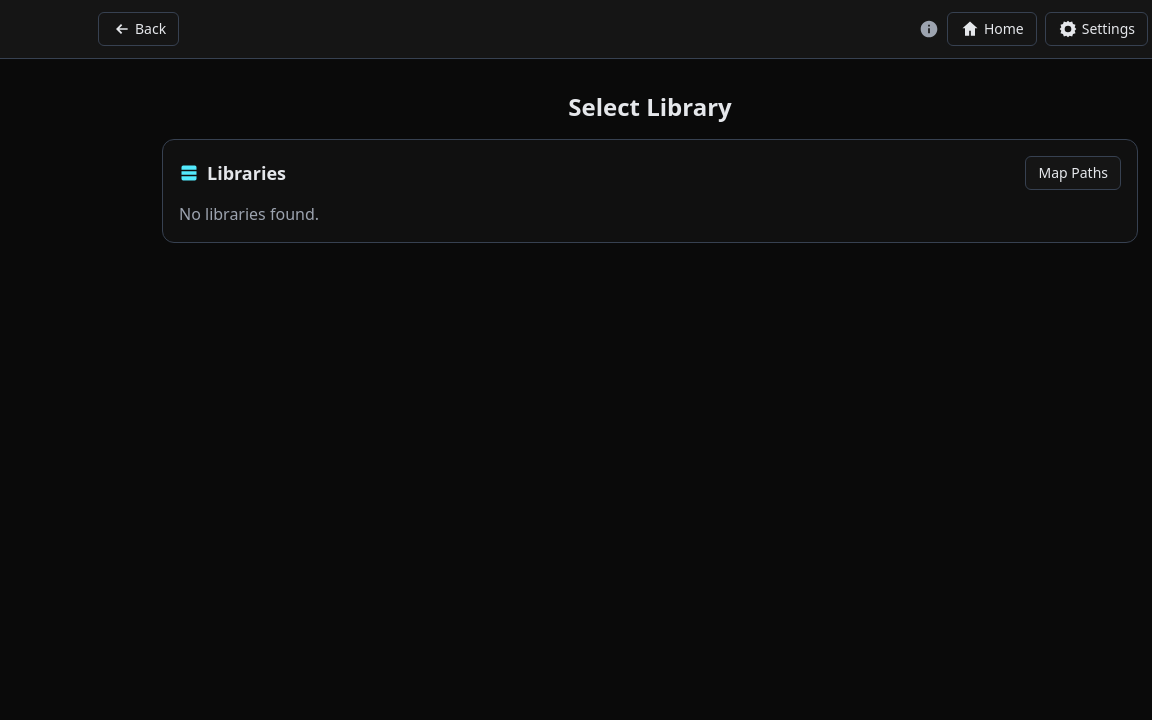
Scenario: LibrarySelectionContainer › opens path mapping modal when Map Paths is clicked
Step 1. Click the button "Map Paths" → (1073, 173), box [1026, 156, 1121, 190]
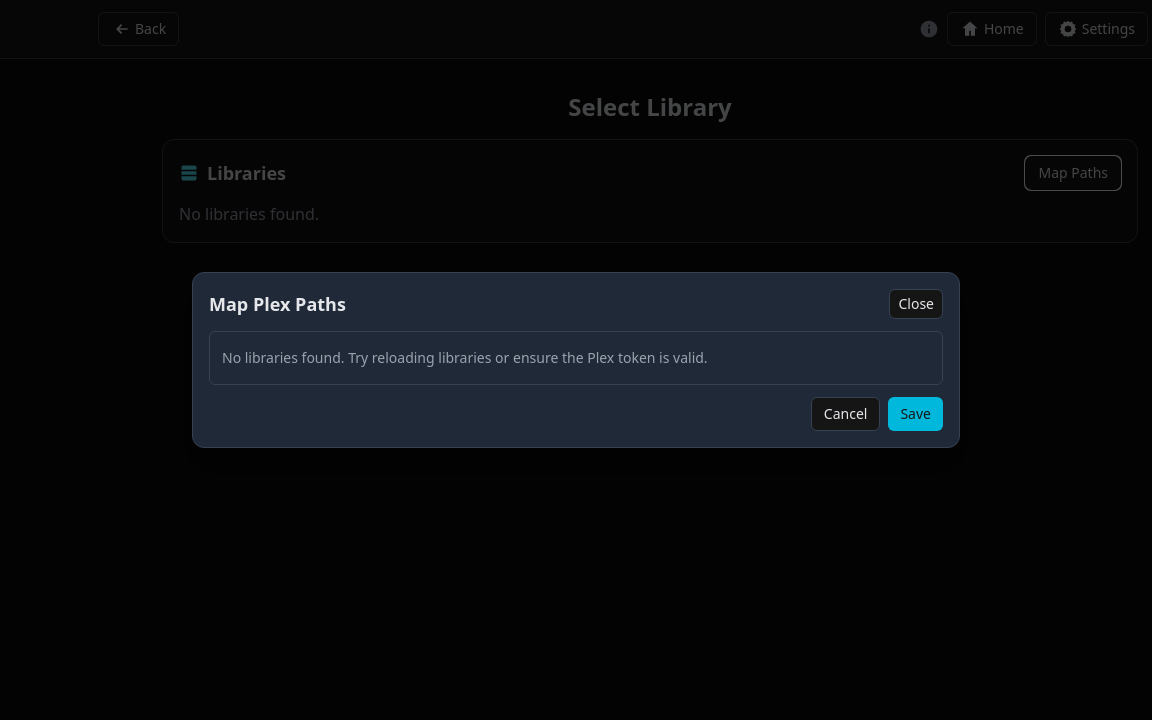
Now the text "Map Plex Paths" is shown, box [209, 290, 346, 318]
